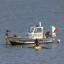fishing boat: (3, 18, 60, 48)
